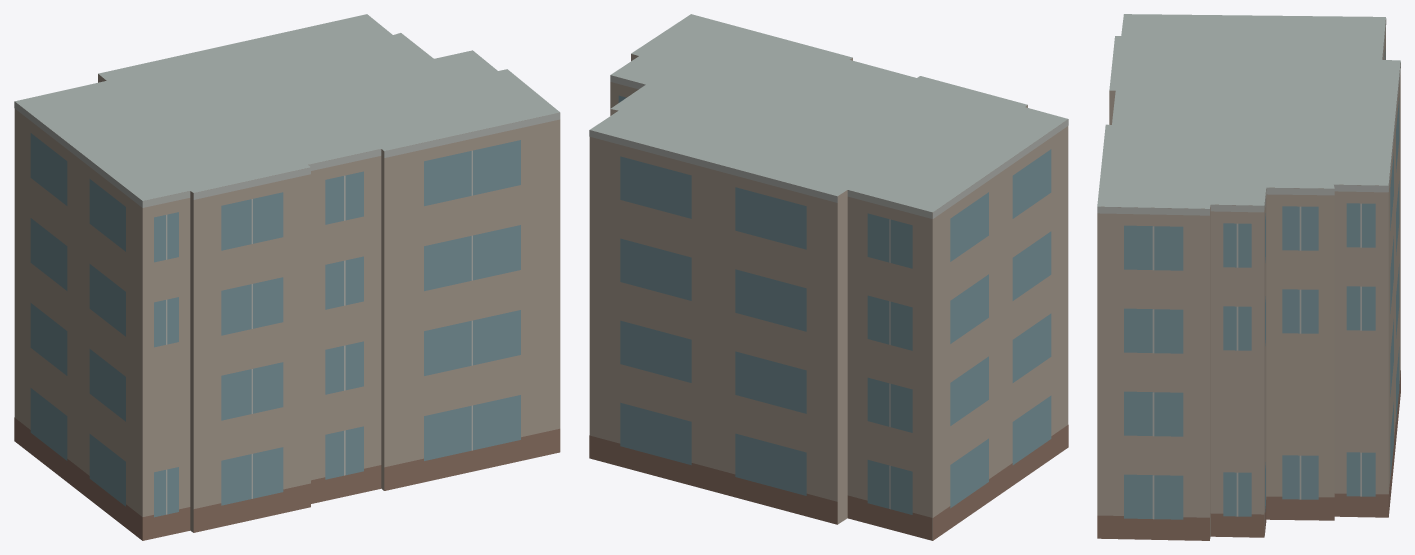
The model's file is survey-upis-32922876.glb.
3 views of the same model, side by side, from view 1: azimuth 30°, elevation 25°; view 2: azimuth 150°, elevation 25°; view 3: azimuth 270°, elevation 25° (orthographic). The views are drawn at different scales.
Parts seen in each view (by area): view 1: survey-upis-32922876.tmp; view 2: survey-upis-32922876.tmp; view 3: survey-upis-32922876.tmp.
Part boxes in pixels (x1=…): survey-upis-32922876.tmp: x1=14, y1=14, x2=560, y2=540; survey-upis-32922876.tmp: x1=589, y1=14, x2=1068, y2=540; survey-upis-32922876.tmp: x1=1097, y1=14, x2=1400, y2=540.
Size of the model in its own units: 15.02 by 11.92 by 9.89.
